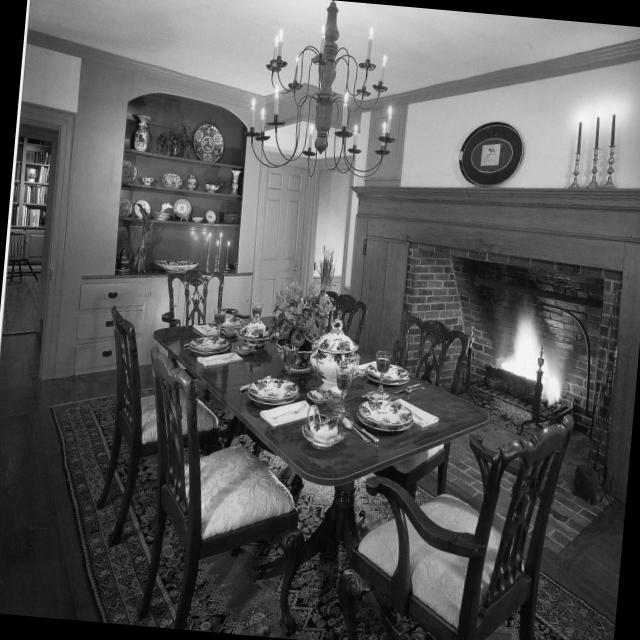cup of spoons: (333, 364, 354, 417)
door bars: (250, 161, 310, 317)
plate food: (194, 125, 225, 161)
